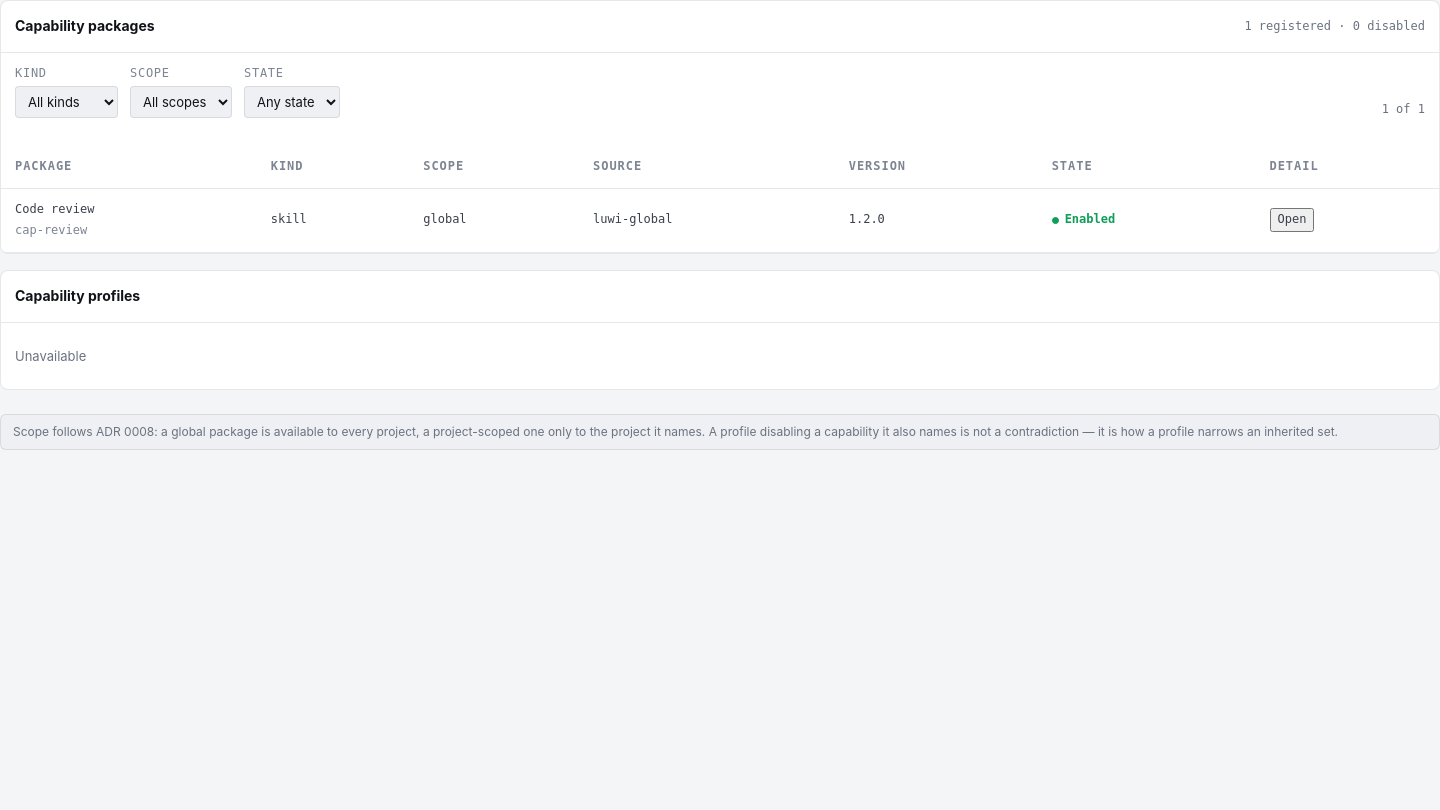
Test: CapabilitiesView › does not claim a package is unused when the profile read failed
Click the button with aria-label "Open Code review" at (1292, 220), box [1270,208,1314,232]
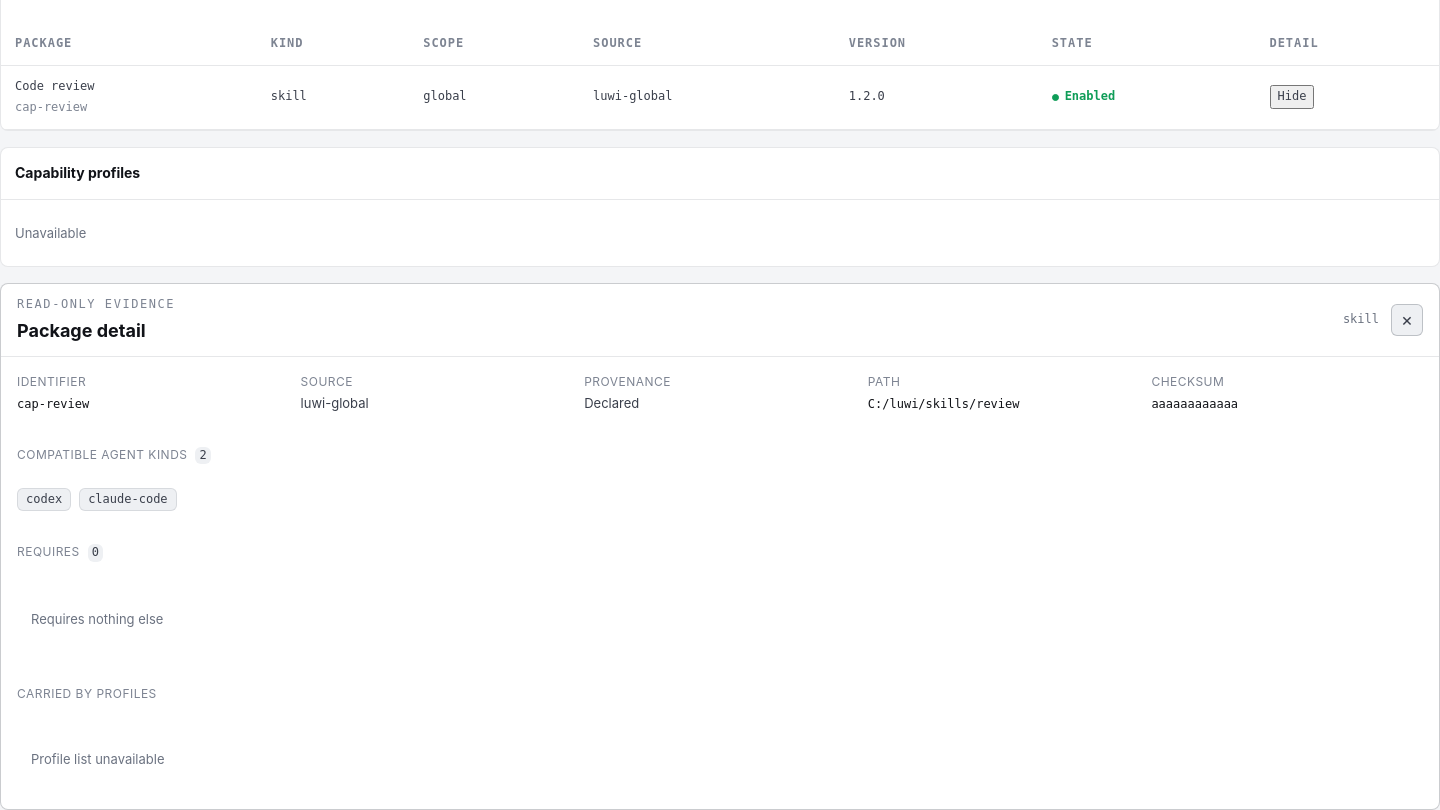
Check: the text "Profile list unavailable" is shown, box [31,751,164,767]
